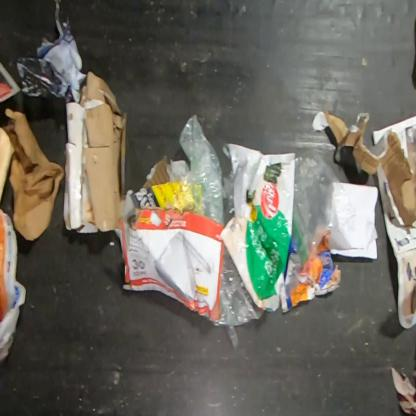cardboard: (310, 109, 415, 232), (114, 207, 225, 322), (62, 70, 128, 234), (130, 153, 189, 209)
soft_plastic: (216, 142, 297, 313), (162, 113, 235, 228), (292, 146, 358, 266), (211, 246, 266, 349)
